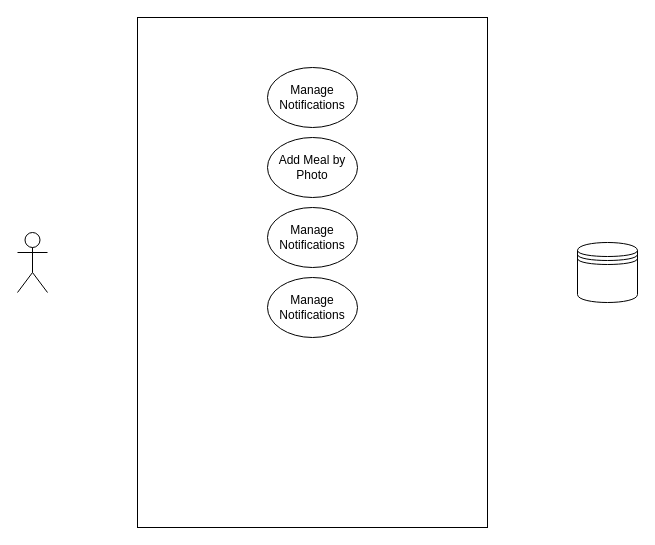
This 655x545 diagram has some shape labels left out. Here are the shapes that lost their labels. From the top down, the centre of each, then its label:
At point 32,262: "User".
At point 607,272: "Database".
